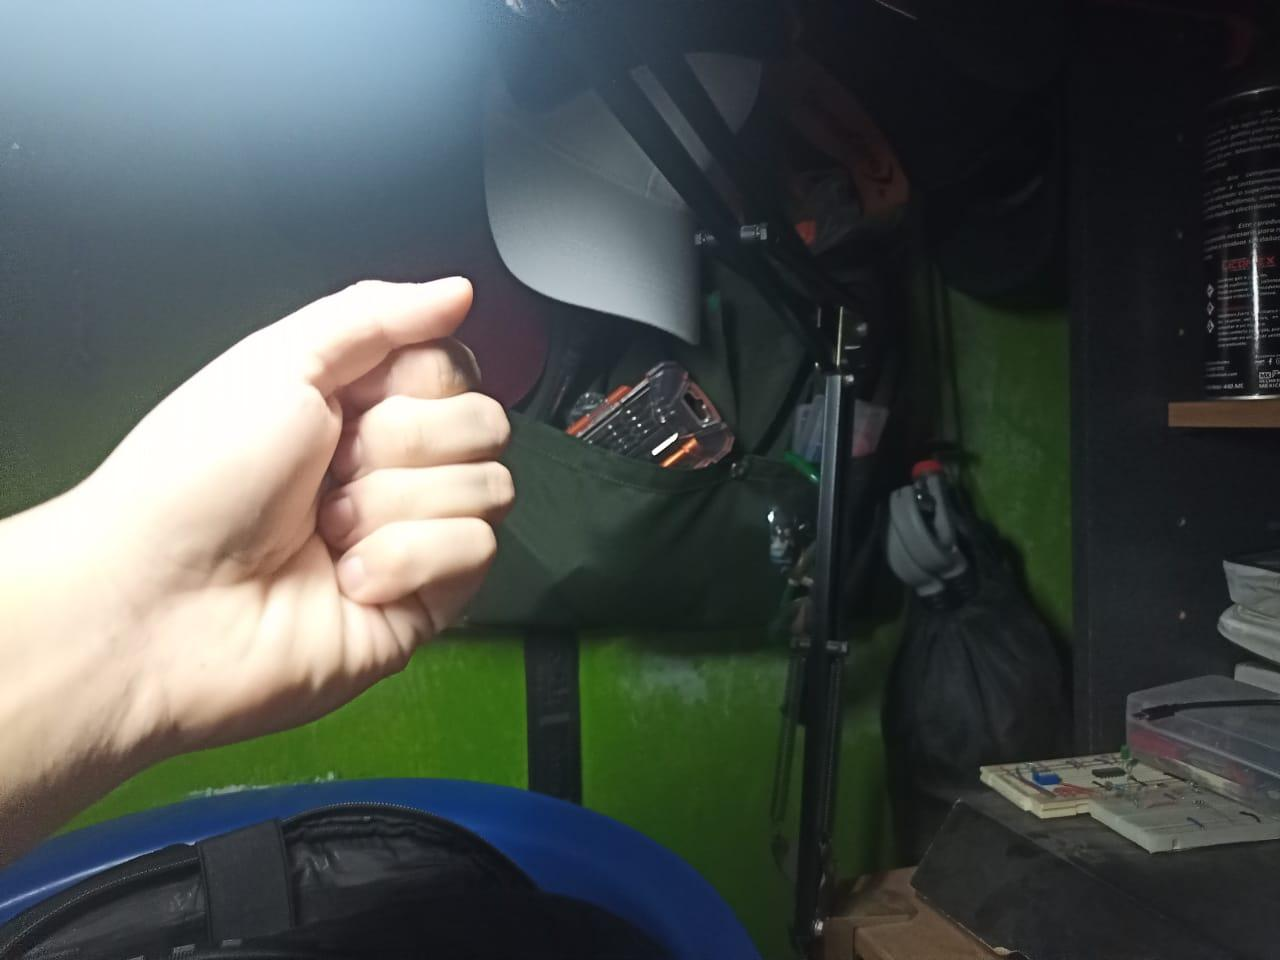Stone: (0, 279, 511, 875)
